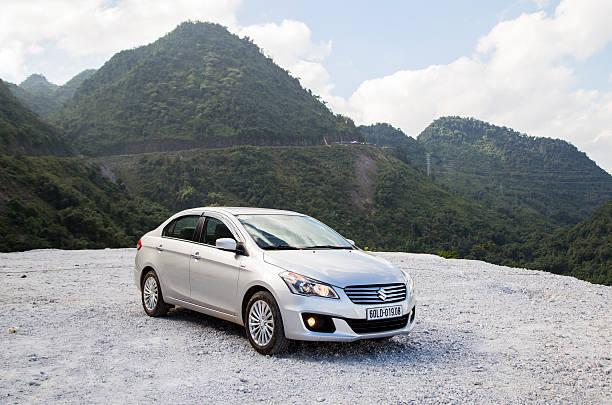suzuki: (373, 284, 395, 303)
